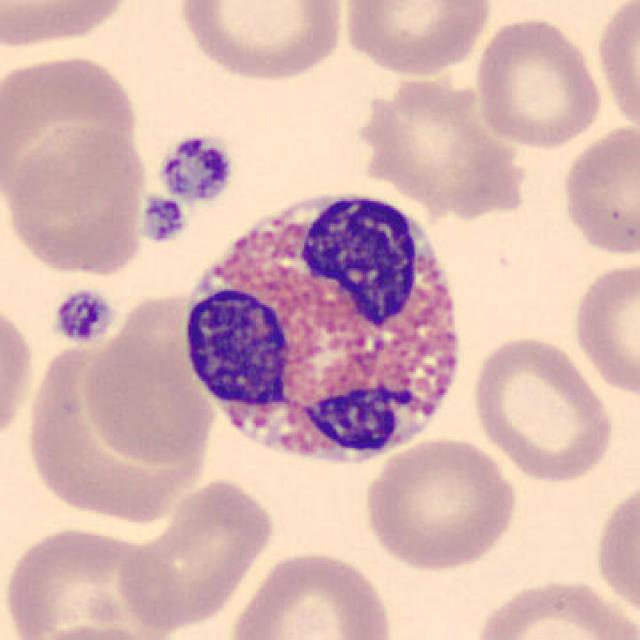Eosinophil: (174, 173, 478, 483)
Platelets: (153, 129, 238, 206), (50, 286, 117, 347), (137, 192, 188, 245)
RBC: (349, 74, 539, 223), (76, 286, 218, 472), (116, 476, 279, 633), (2, 122, 151, 280), (0, 48, 146, 208), (467, 331, 617, 485), (359, 435, 521, 573), (0, 522, 178, 640), (471, 12, 606, 152), (225, 546, 398, 640), (172, 0, 348, 85), (340, 0, 496, 78), (556, 120, 640, 261), (468, 573, 636, 640), (569, 257, 638, 398), (0, 0, 140, 53), (590, 474, 638, 624), (594, 0, 638, 138), (0, 296, 37, 453), (16, 620, 176, 640)
